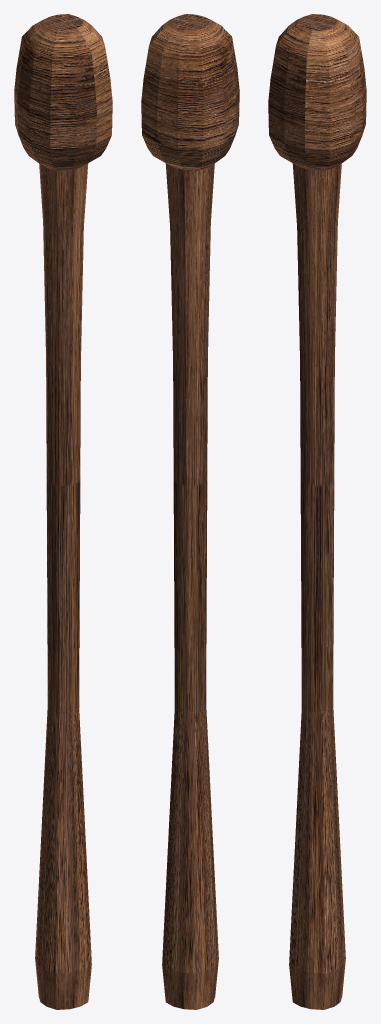
File: StandingTorch.fbx
The picture shows the model from 3 angles, left to right: view 1: azimuth 30°, elevation 25°; view 2: azimuth 150°, elevation 25°; view 3: azimuth 330°, elevation 25°; orthographic projection.
Visible parts, largest first — view 1: Torch; view 2: Torch; view 3: Torch.
Part boxes in pixels (left/top/right/bottom): Torch: left=14, top=14, right=112, bottom=1009; Torch: left=141, top=14, right=239, bottom=1009; Torch: left=268, top=14, right=366, bottom=1009.
Bounding box in the file's own units: 18.28 × 18.28 × 214.
